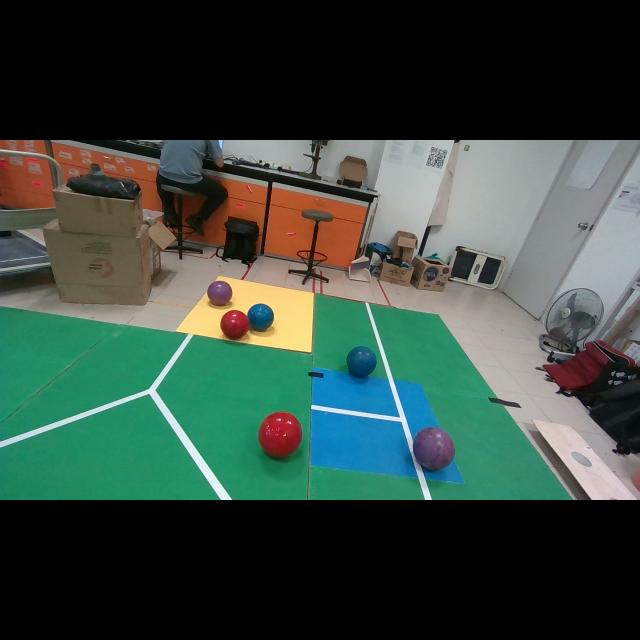B: (348, 346, 376, 378), (248, 304, 274, 331)
P: (412, 426, 455, 471), (208, 281, 232, 306)
R: (259, 411, 302, 457), (220, 310, 250, 339)
